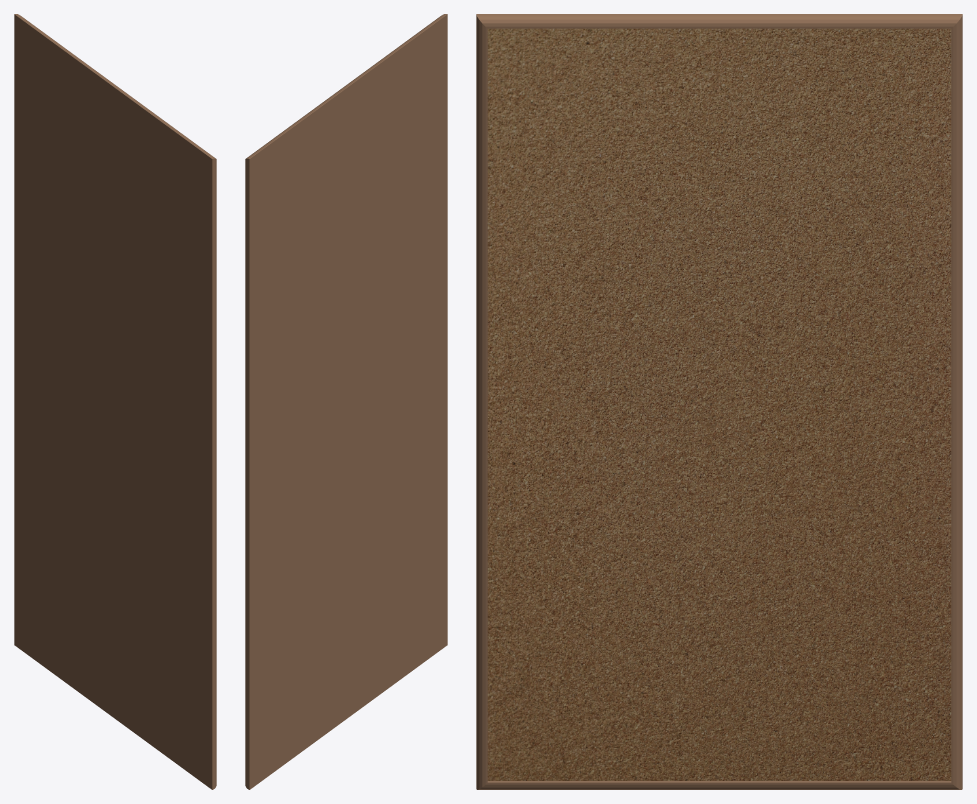
Rendered from pinboard.glb.
3 renders of one model, left to right at view 1: azimuth 30°, elevation 25°; view 2: azimuth 150°, elevation 25°; view 3: azimuth 270°, elevation 25°, orthographic. The views are drawn at different scales.
Parts seen in each view (by area): view 1: Cube; view 2: Cube; view 3: Cube.
Boxes of the visible parts, x1=… form: Cube: x1=14, y1=14, x2=216, y2=789; Cube: x1=245, y1=14, x2=447, y2=789; Cube: x1=476, y1=14, x2=962, y2=789.
Bounding box in the file's own units: 0.0243 × 2 × 1.14.
Materials: 2 (1 with a texture image).
